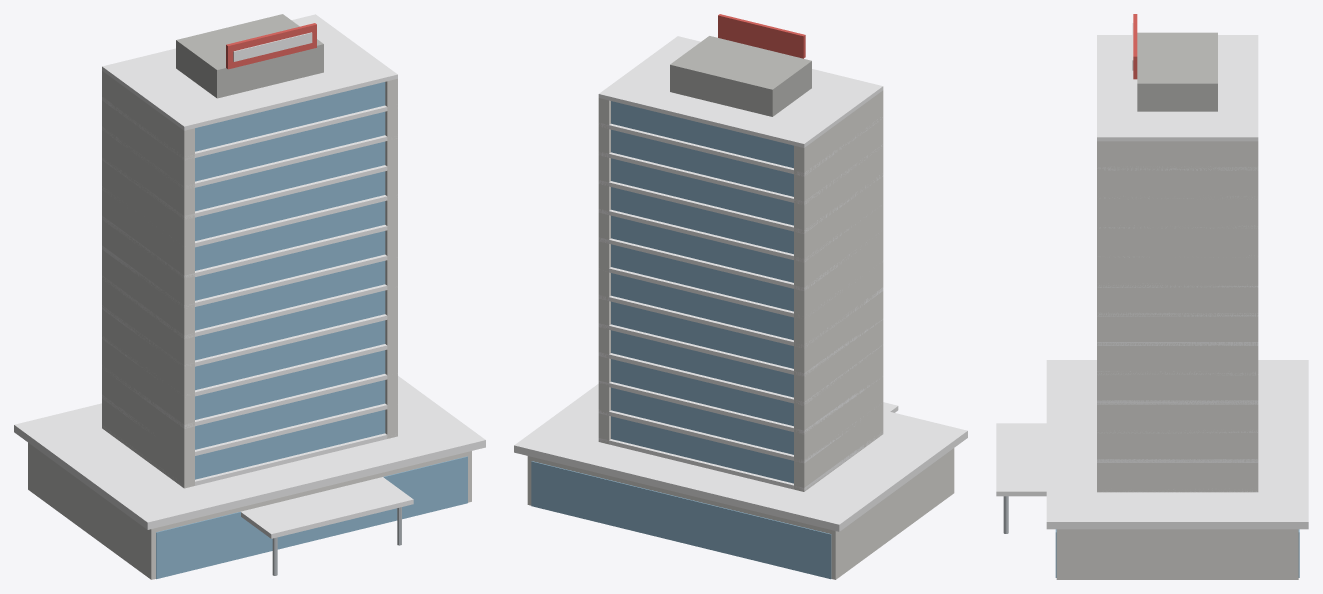
File: hotel-CyXGlnTr.glb
3 renders of one model, left to right at view 1: azimuth 30°, elevation 25°; view 2: azimuth 150°, elevation 25°; view 3: azimuth 270°, elevation 25°, orthographic. The views are drawn at different scales.
Visible parts, largest first — view 1: body; view 2: body; view 3: body.
Part boxes in pixels (<box>): body: <box>14,14,485,579</box>; body: <box>514,14,967,579</box>; body: <box>996,14,1308,579</box>.
Size of the model in its own units: 38 by 51.2 by 31.
